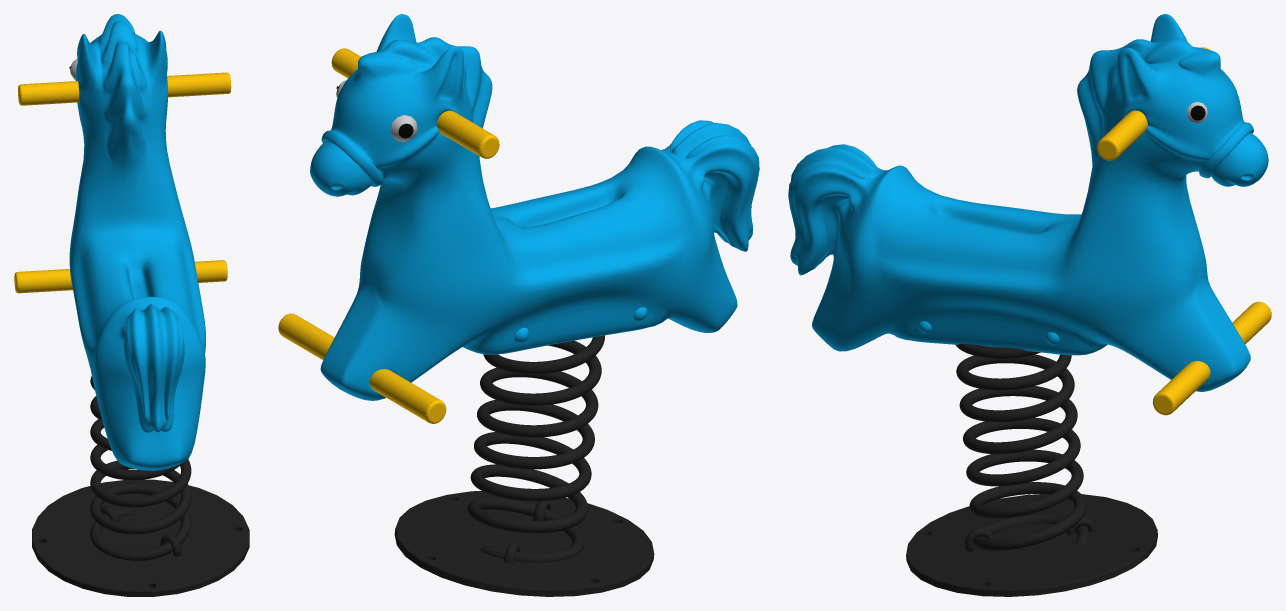
Rendered from Loshadka.gltf.
3 renders of one model, left to right at view 1: azimuth 30°, elevation 25°; view 2: azimuth 150°, elevation 25°; view 3: azimuth 270°, elevation 25°, orthographic. The views are drawn at different scales.
Visible parts, largest first — view 1: 马002, 跷跷板底座006, Cylinder35351, Cylinder35350; view 2: 马002, 跷跷板底座006, Cylinder35350, Cylinder35351; view 3: 马002, 跷跷板底座006, Cylinder35350, Cylinder35351.
Boxes of the visible parts, <box> form: 马002: <box>69,14,205,470</box>; 跷跷板底座006: <box>32,376,249,596</box>; Cylinder35351: <box>18,72,231,105</box>; Cylinder35350: <box>14,260,227,293</box>; 马002: <box>310,14,759,400</box>; 跷跷板底座006: <box>394,335,654,596</box>; Cylinder35350: <box>278,313,446,423</box>; Cylinder35351: <box>331,48,499,158</box>; 马002: <box>788,14,1268,391</box>; 跷跷板底座006: <box>906,343,1157,596</box>; Cylinder35350: <box>1153,301,1271,415</box>; Cylinder35351: <box>1097,47,1210,160</box>.
Bounding box in the file's own units: 0.4258 × 0.7764 × 0.6217.
